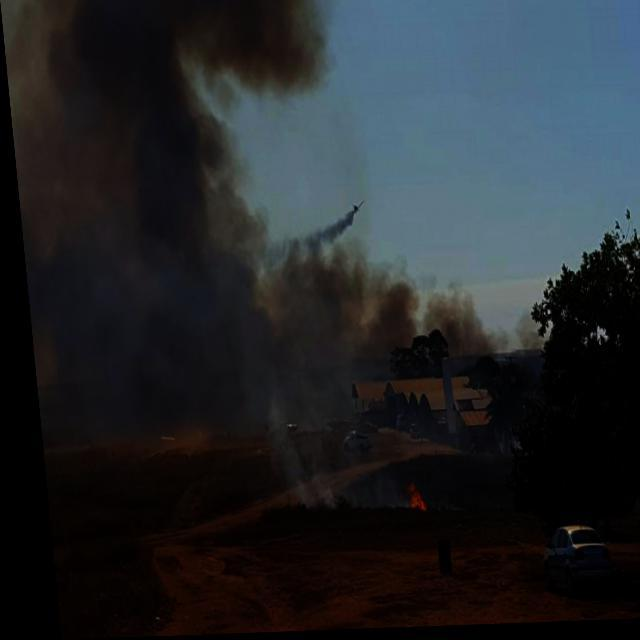Fire: (396, 479, 416, 517)
